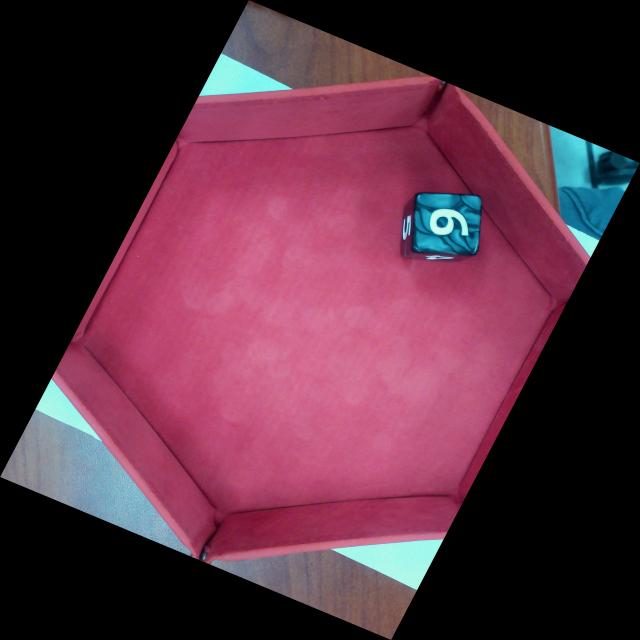dice: (411, 191, 483, 257)
